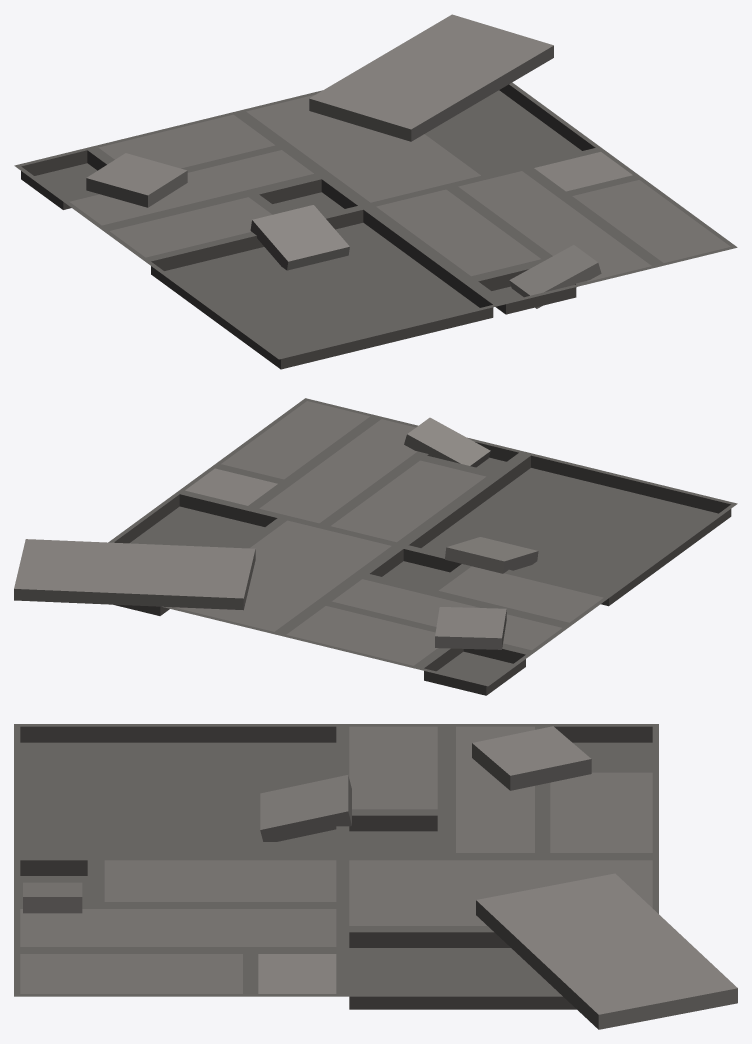
The model's file is SD_Env_Floor_Stone_Broken_01.fbx.
The picture shows the model from 3 angles, top to bottom: view 1: azimuth 30°, elevation 25°; view 2: azimuth 150°, elevation 25°; view 3: azimuth 270°, elevation 25°; orthographic projection. The views are drawn at different scales.
Parts seen in each view (by area): view 1: SD_Env_Floor_Stone_Broken_01; view 2: SD_Env_Floor_Stone_Broken_01; view 3: SD_Env_Floor_Stone_Broken_01.
Part boxes in pixels (bbox=[...]): SD_Env_Floor_Stone_Broken_01: bbox=[14, 14, 737, 369]; SD_Env_Floor_Stone_Broken_01: bbox=[14, 398, 737, 695]; SD_Env_Floor_Stone_Broken_01: bbox=[14, 724, 737, 1029].
Size of the model in its own units: 5.61 by 0.3286 by 5.61.
